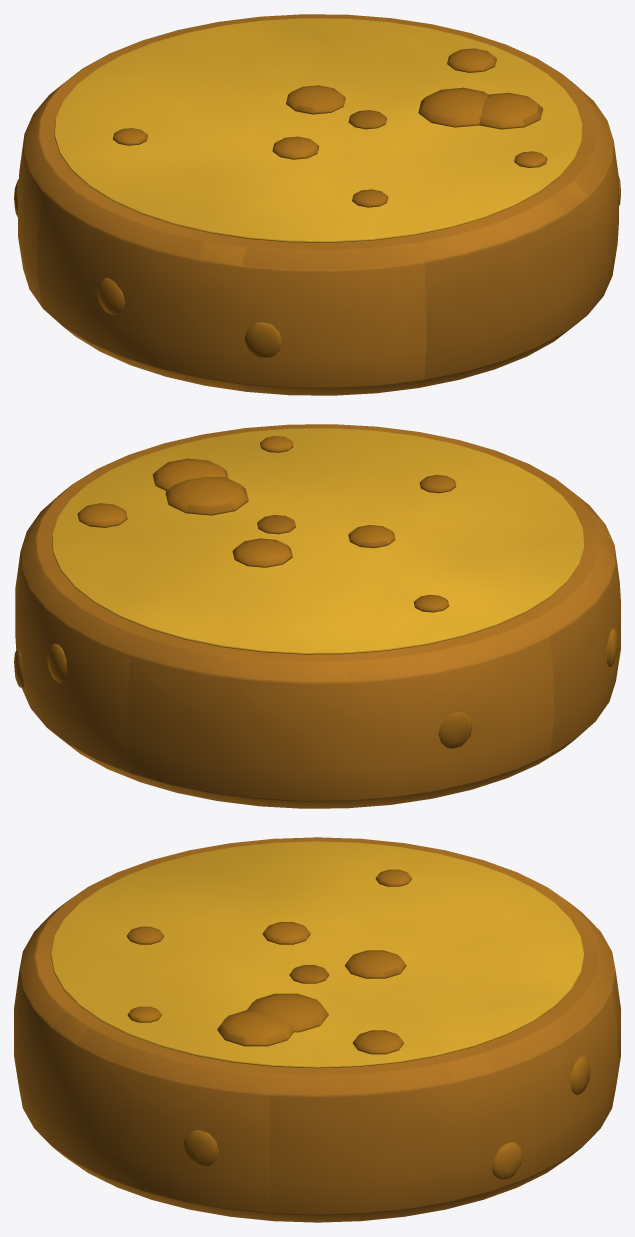
Rendered from prop_cheese_wheel.glb.
The picture shows the model from 3 angles, top to bottom: view 1: azimuth 30°, elevation 25°; view 2: azimuth 150°, elevation 25°; view 3: azimuth 270°, elevation 25°; orthographic projection.
Visible parts, largest first — view 1: prop_cheese_wheel; view 2: prop_cheese_wheel; view 3: prop_cheese_wheel.
Boxes of the visible parts, <box> form: prop_cheese_wheel: <box>14,14,620,395</box>; prop_cheese_wheel: <box>14,424,620,808</box>; prop_cheese_wheel: <box>14,837,620,1222</box>.
Size of the model in its own units: 0.58 by 0.1714 by 0.58.
3 materials, 3 textured.
